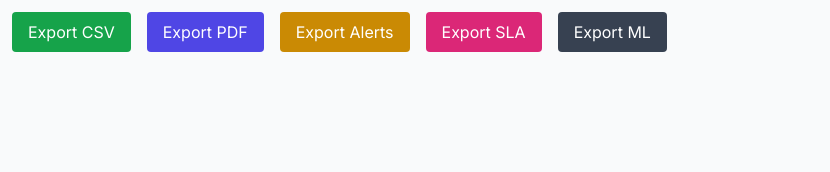
Test: ExportButtons › shows error if SLA export fails
Click the button "Export SLA" at (484, 32), box [426, 12, 542, 52]
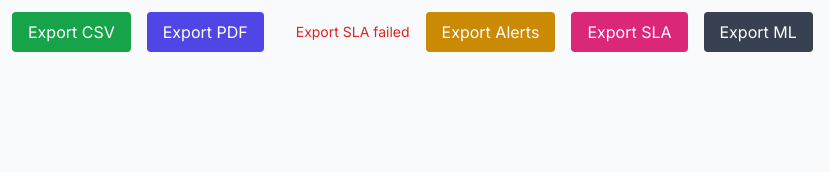
Result: the text "Export SLA failed" is shown at [296, 22, 410, 42]
